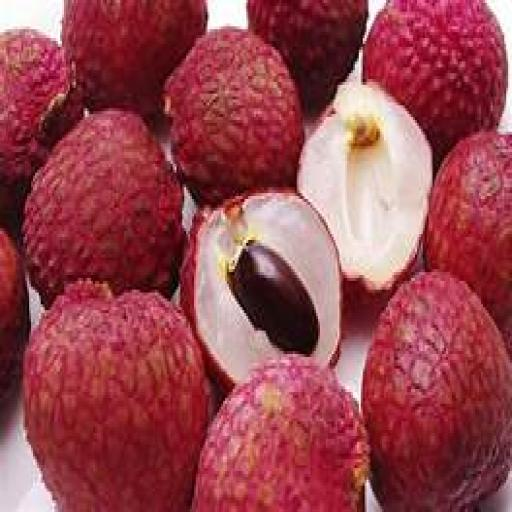lychee: (24, 281, 207, 511), (363, 273, 511, 511), (181, 191, 341, 389), (24, 112, 184, 307), (299, 82, 432, 295), (192, 357, 368, 511), (165, 27, 304, 204), (363, 0, 508, 163), (425, 132, 511, 330), (63, 0, 207, 117), (0, 30, 83, 231), (249, 0, 368, 111), (0, 232, 31, 400)
